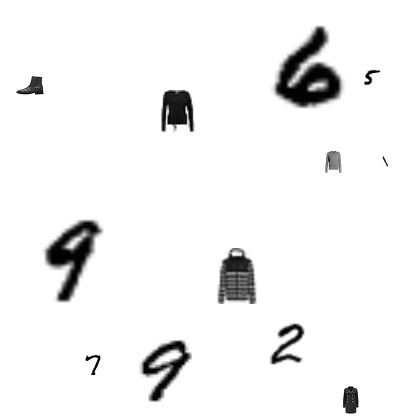1: (378, 154, 392, 168)
2: (258, 316, 314, 372)
5: (359, 65, 381, 87)
6: (252, 19, 364, 131)
7: (80, 348, 108, 376)
9: (14, 197, 126, 309), (122, 323, 206, 407)
Ankle_boot: (16, 71, 44, 99)
Coat: (208, 248, 264, 304), (337, 386, 365, 414)
Pullover: (157, 90, 199, 132), (322, 151, 344, 173)
